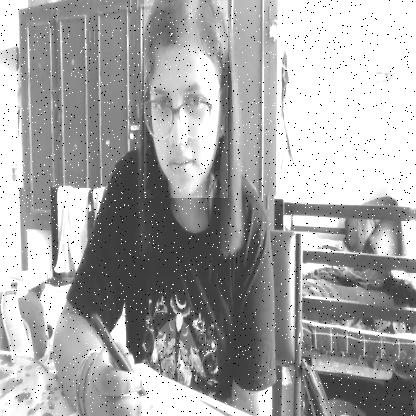Normal: (144, 0, 228, 198)
